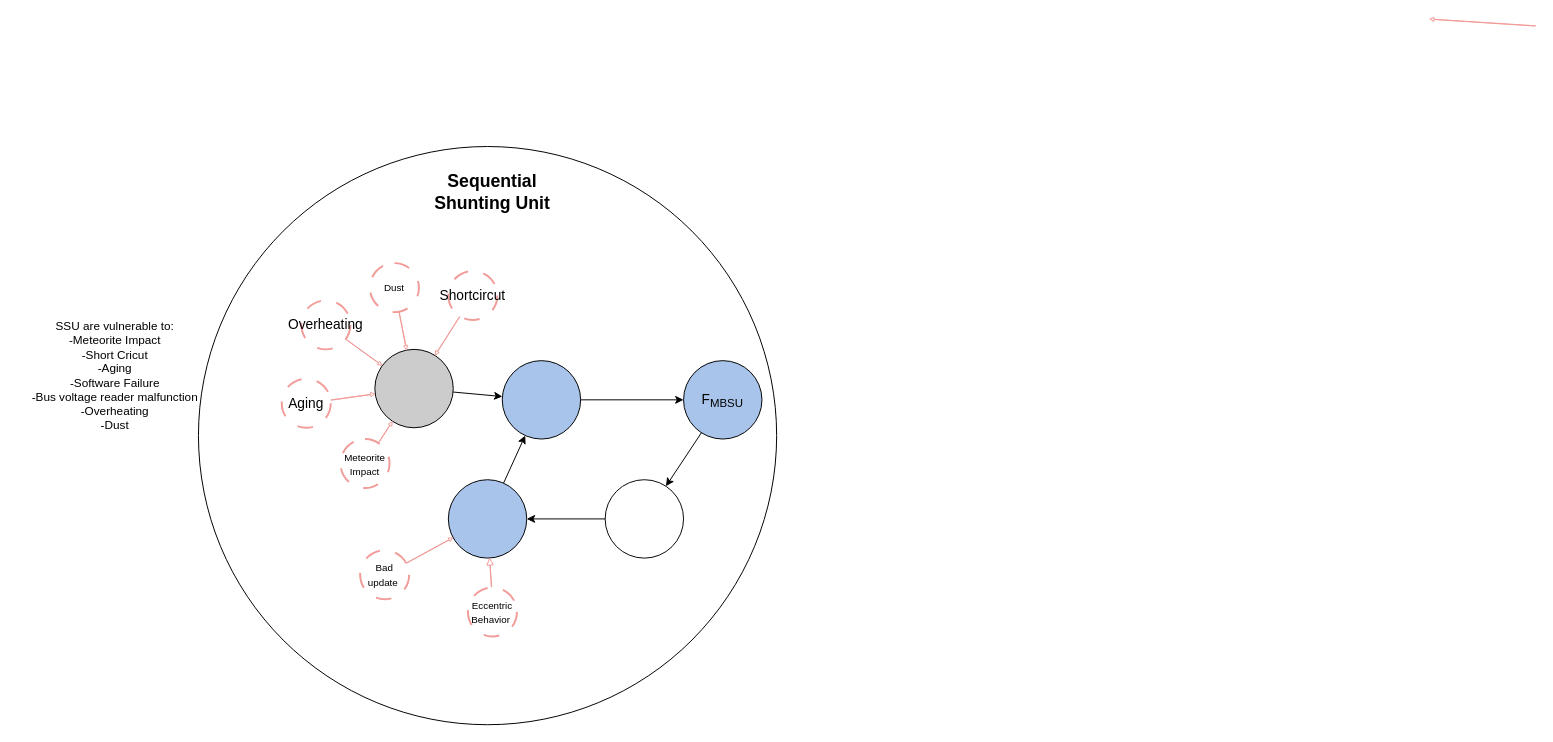
The diagram is 1553 pixels wide and 742 high, and some of its shapes have lost their labels. The shapes that lost their labels are listed below. From the top down, each one's centre as x and y in pixels, then its label:
pixel 413 388: H SSU
pixel 541 399: F SSU
pixel 487 518: F software
pixel 644 518: V MBSU_voltmeter
